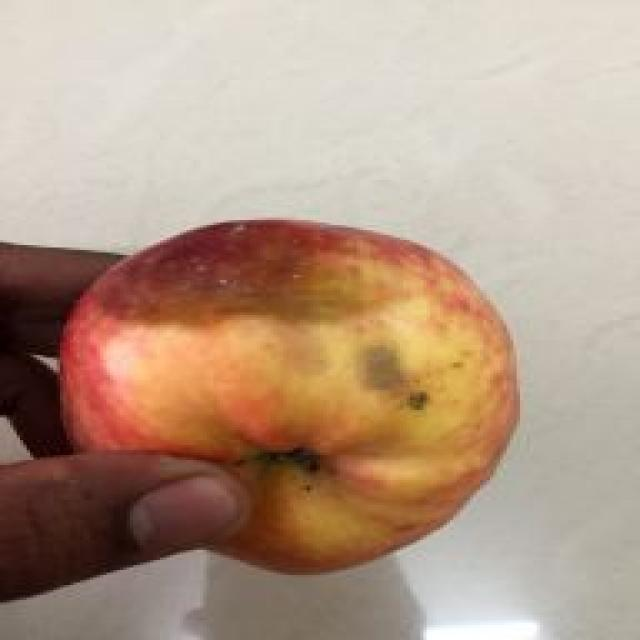Bad_Apple: (62, 221, 518, 572)
